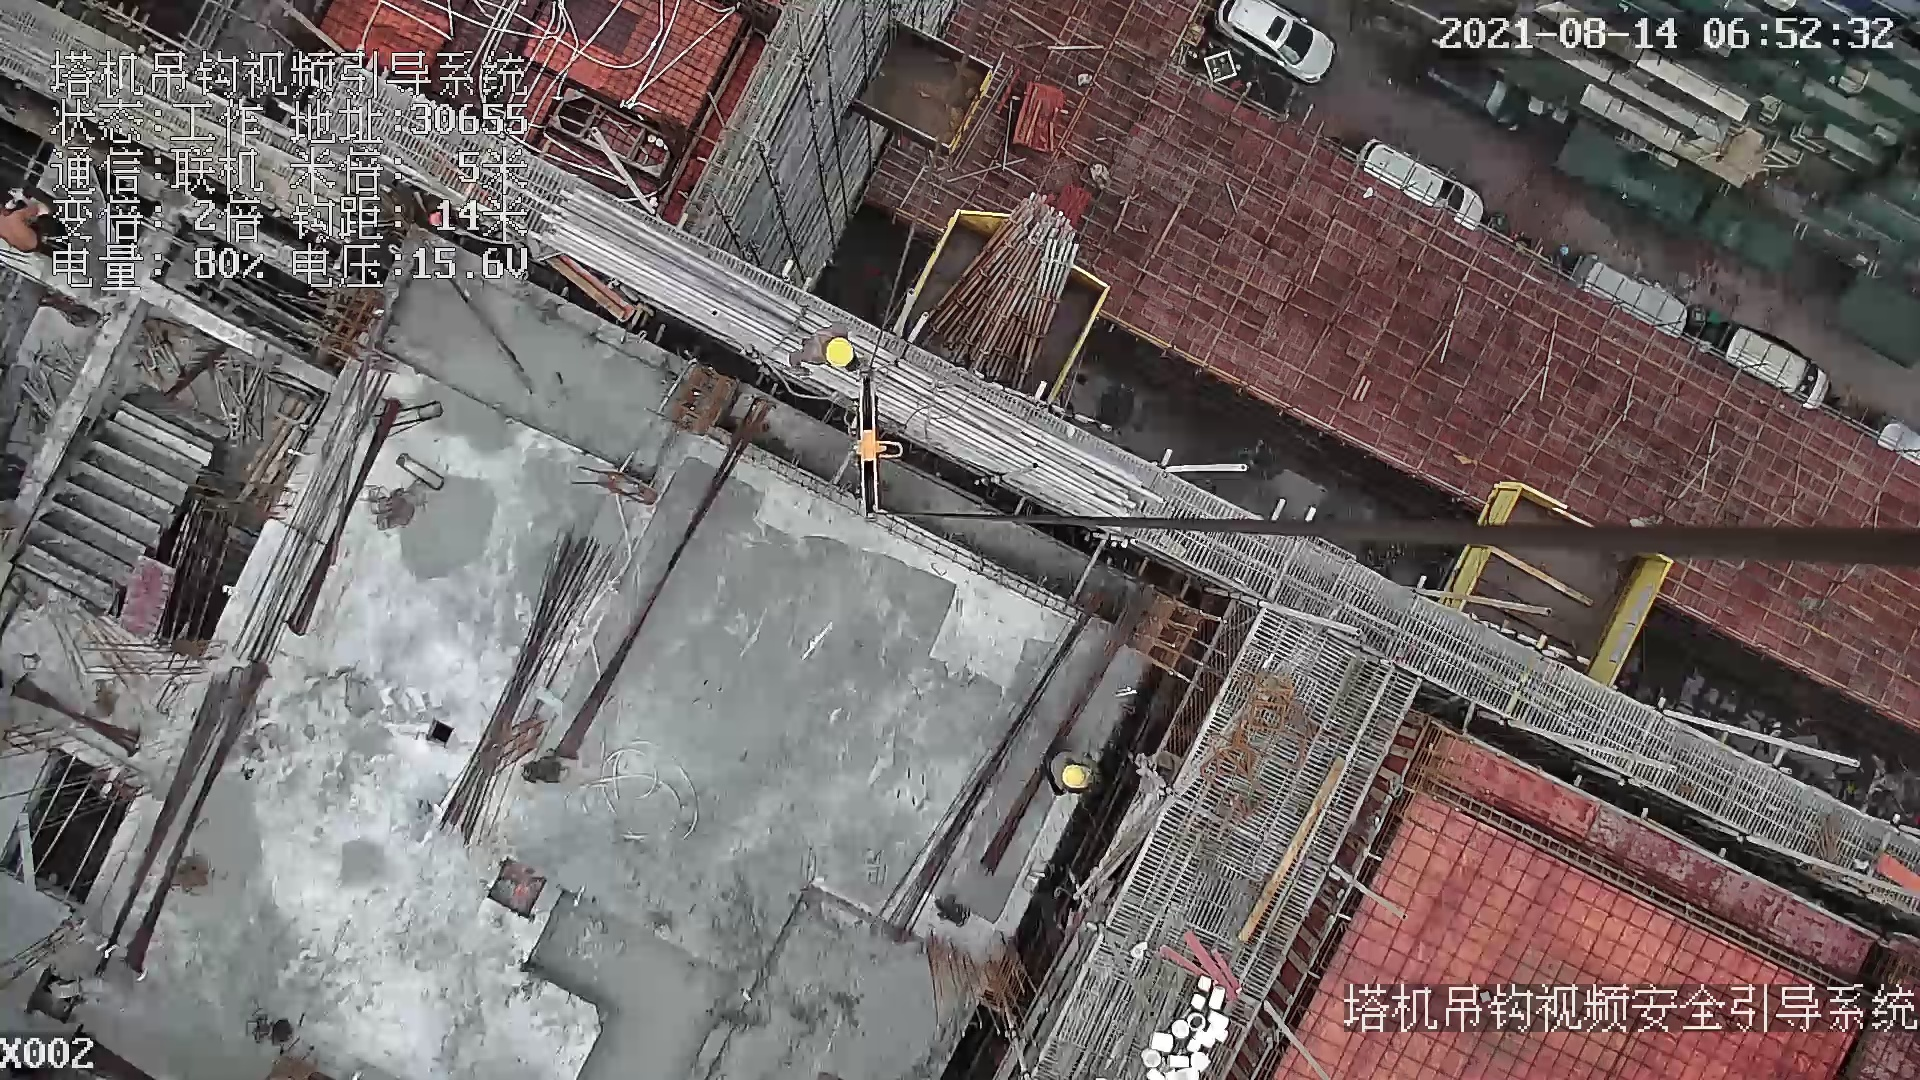helmet: (826, 337, 854, 366), (1062, 766, 1090, 787)
hook: (846, 362, 913, 526)
person: (788, 322, 863, 380), (1, 187, 52, 254), (1047, 747, 1109, 795)
rebar: (532, 191, 1143, 531), (436, 527, 616, 849)
scaffold: (913, 192, 1081, 393)
